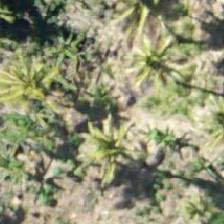coconut_tree: (104, 15, 194, 105), (69, 101, 159, 191), (0, 34, 75, 124)
